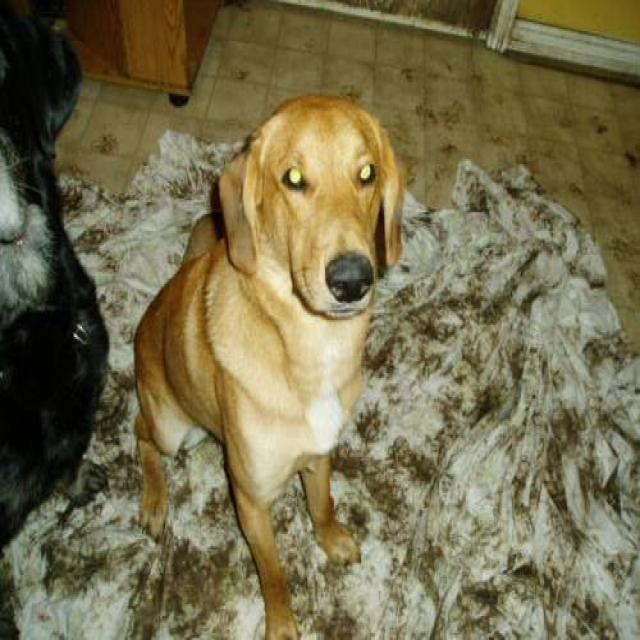dog: (130, 91, 406, 638), (0, 0, 109, 638)
